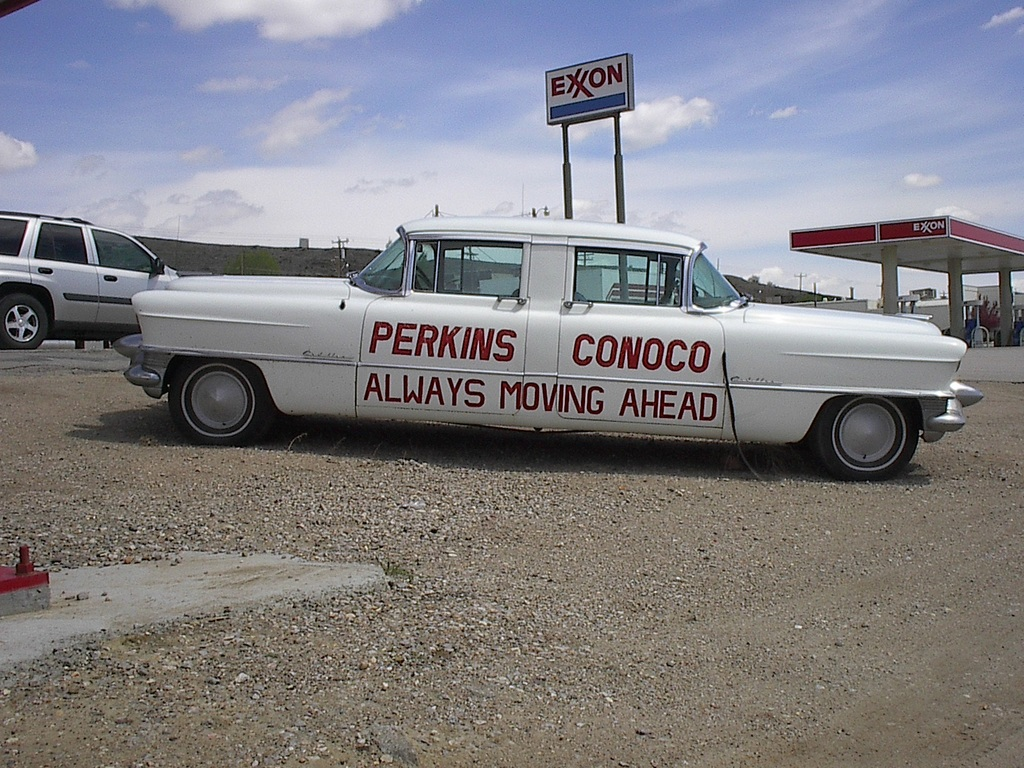Car: (119, 213, 974, 476), (0, 206, 177, 346)
